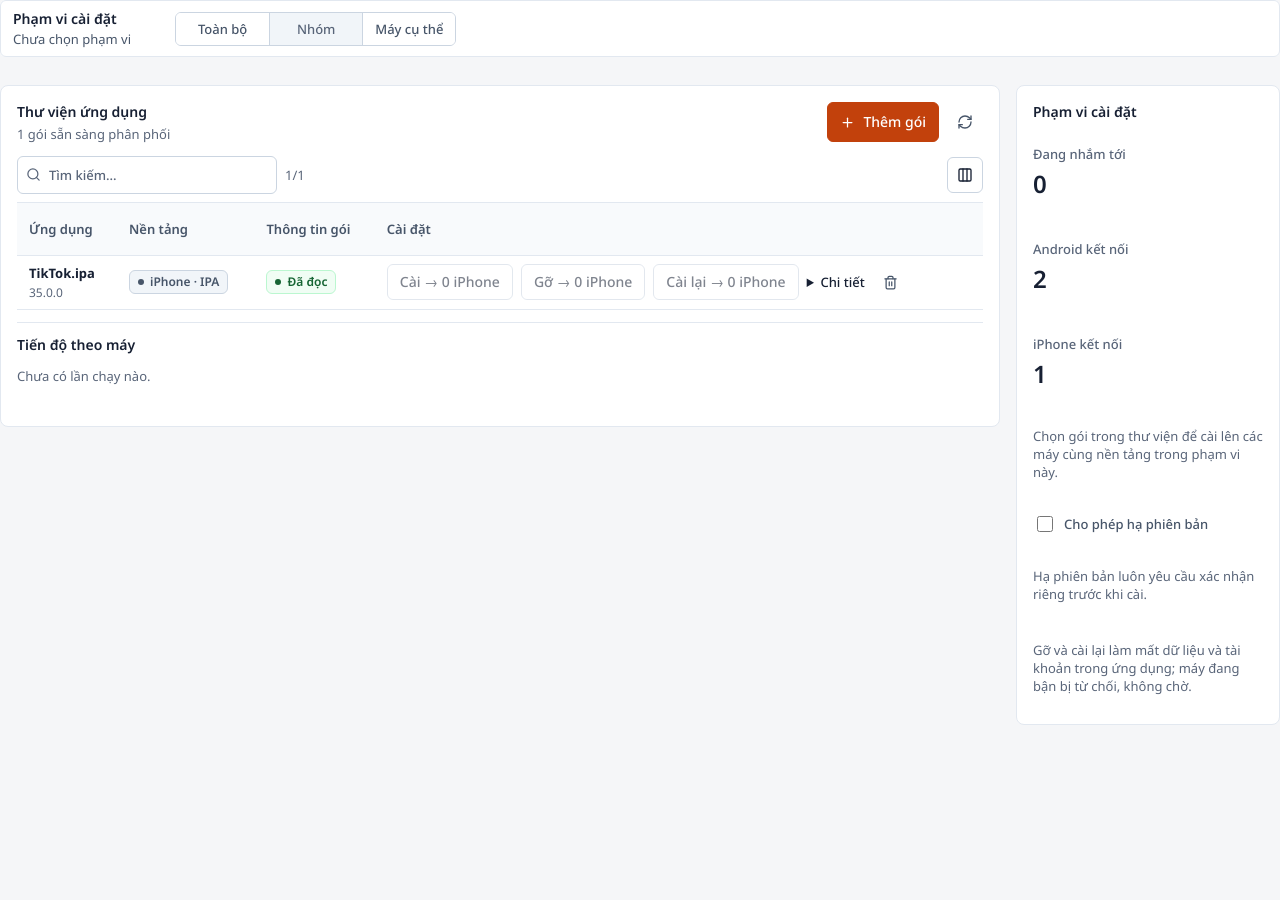
AppsPage install targets › never counts an Android phone as a target for an IPA
The image size is (1280, 900).
Expected: the button "Cài → 0 iPhone" is disabled, 387,264 -> 513,300
Step 1. Click the radio button labelled "Toàn bộ" → {"x": 223, "y": 28}, box 176,12 -> 269,44
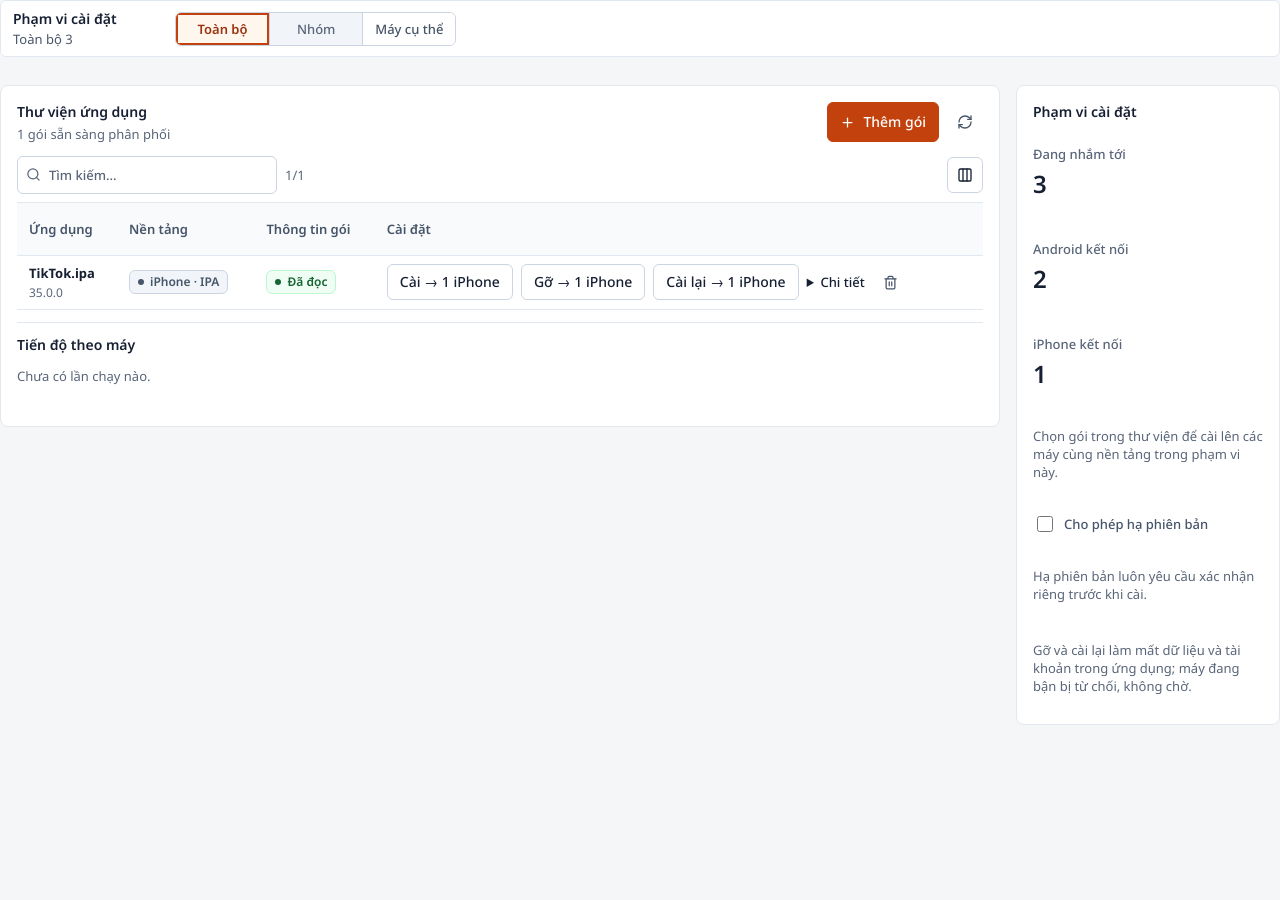
Expected: the button "Cài → 1 iPhone" is enabled, 387,264 -> 513,300
